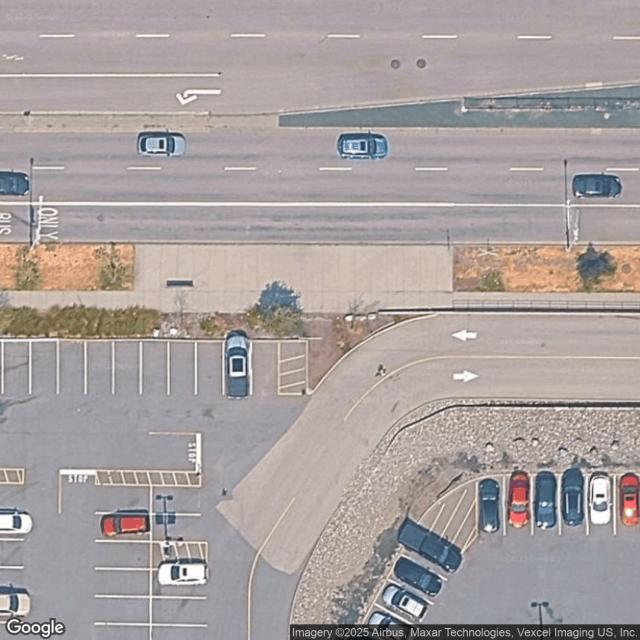car: (393, 517, 467, 576), (390, 555, 446, 602), (379, 581, 432, 622), (222, 330, 250, 399), (363, 608, 411, 639), (562, 468, 586, 528), (156, 561, 208, 587), (509, 469, 530, 529), (589, 472, 612, 526), (536, 472, 557, 531), (99, 512, 150, 536), (480, 479, 501, 533), (621, 473, 639, 529), (0, 512, 33, 534), (0, 593, 31, 616)
lot_boundary: (0, 339, 305, 639), (354, 469, 639, 639)
objects: (152, 542, 207, 570), (96, 472, 201, 485), (0, 467, 24, 484)
stall: (223, 342, 252, 397), (250, 341, 279, 396), (113, 341, 142, 396), (168, 341, 197, 396), (140, 340, 168, 396), (2, 340, 30, 396), (30, 340, 58, 396), (96, 514, 152, 542), (150, 488, 206, 516), (196, 342, 224, 397), (85, 341, 113, 396), (96, 542, 151, 570), (151, 597, 206, 625), (58, 340, 86, 394), (96, 485, 152, 512), (96, 569, 150, 596), (96, 597, 150, 624), (152, 570, 206, 597), (152, 515, 206, 542), (0, 594, 23, 623), (0, 567, 23, 596), (0, 539, 23, 568), (0, 512, 23, 540), (1, 483, 23, 512)
